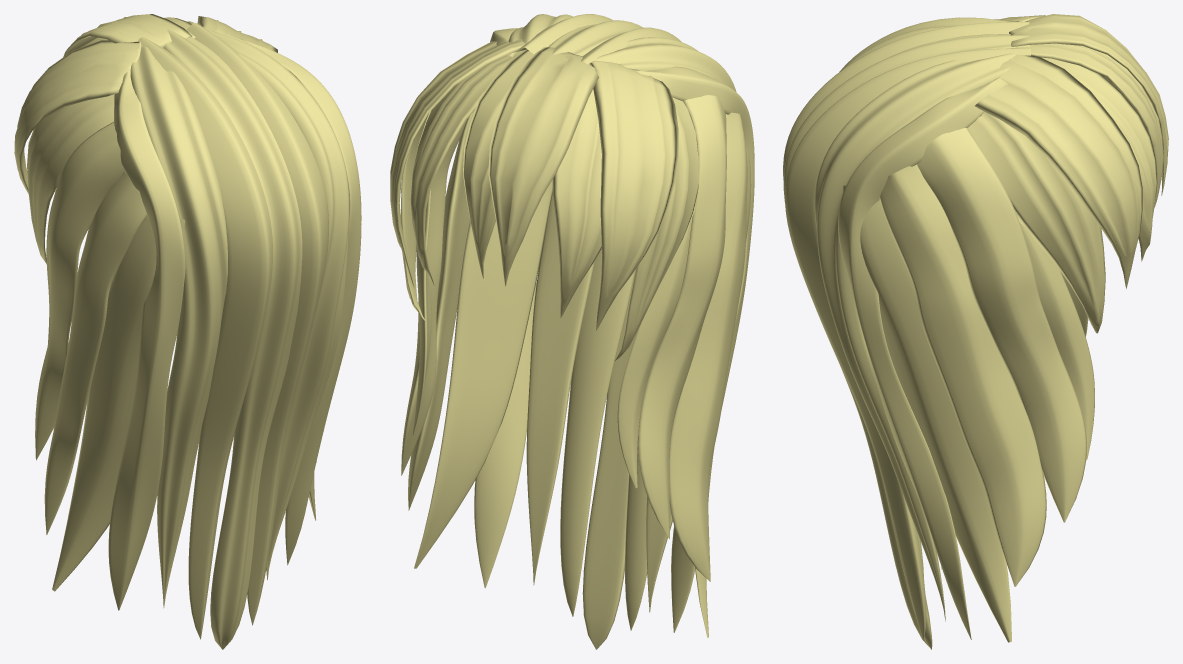
File: hairstyle2.fbx
3 views of the same model, side by side, from view 1: azimuth 30°, elevation 25°; view 2: azimuth 150°, elevation 25°; view 3: azimuth 270°, elevation 25° (orthographic). The views are drawn at different scales.
Visible parts, largest first — view 1: Back, Side, Front; view 2: Side, Front, Back; view 3: Side, Back, Front.
Boxes of the visible parts, x1=… form: Back: x1=108, y1=23, x2=361, y2=649; Side: x1=35, y1=122, x2=316, y2=591; Front: x1=14, y1=14, x2=277, y2=263; Side: x1=401, y1=95, x2=751, y2=637; Front: x1=390, y1=39, x2=698, y2=361; Back: x1=474, y1=14, x2=754, y2=649; Side: x1=843, y1=128, x2=1094, y2=642; Back: x1=783, y1=17, x2=1030, y2=649; Front: x1=968, y1=14, x2=1168, y2=333.
Bounding box in the file's own units: 16.55 × 33.76 × 19.29.
